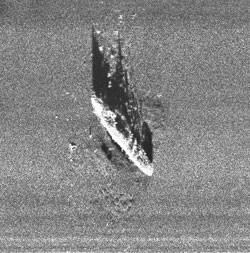ship: (90, 92, 155, 177)
